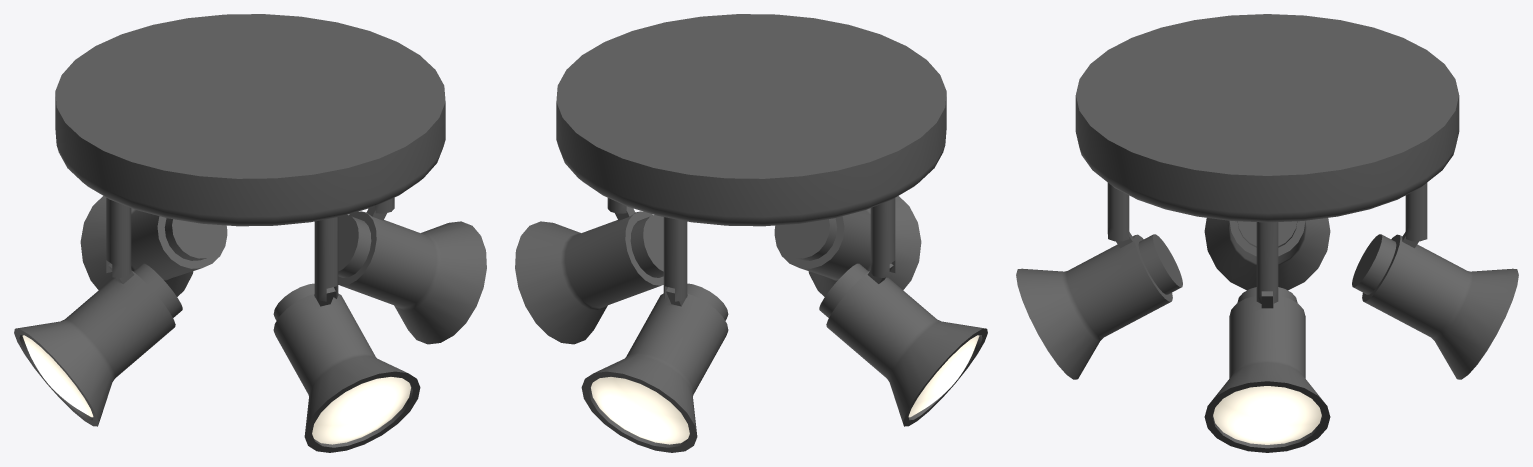
The model's file is chandelier.glb.
3 renders of one model, left to right at view 1: azimuth 30°, elevation 25°; view 2: azimuth 150°, elevation 25°; view 3: azimuth 270°, elevation 25°, orthographic.
Parts seen in each view (by area): view 1: Lamp_02_Cylinder; view 2: Lamp_02_Cylinder; view 3: Lamp_02_Cylinder.
Part boxes in pixels (<box>): Lamp_02_Cylinder: <box>14,14,486,452</box>; Lamp_02_Cylinder: <box>515,14,987,452</box>; Lamp_02_Cylinder: <box>1016,14,1518,452</box>.
Size of the model in its own units: 0.2975 by 0.1818 by 0.2975.
Materials: 1 (1 with a texture image).
